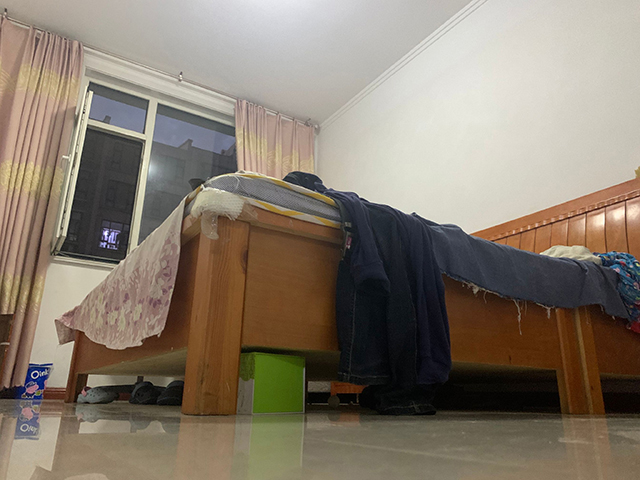bed: (53, 168, 640, 418)
curtain: (1, 19, 84, 402)
slippers: (81, 383, 119, 403), (131, 380, 159, 405), (162, 380, 184, 405)
